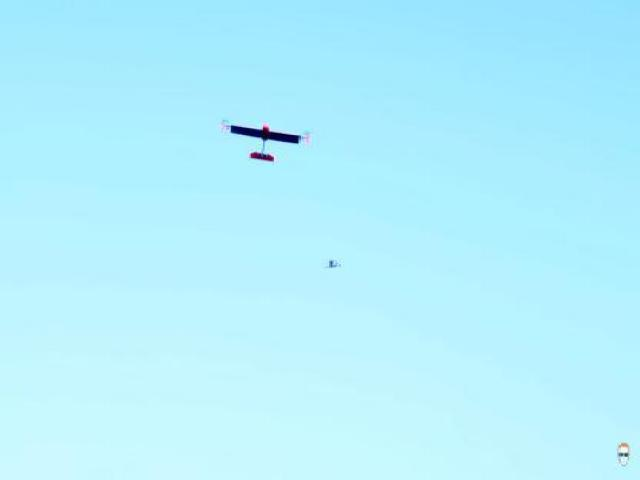uav: (217, 110, 312, 174)
